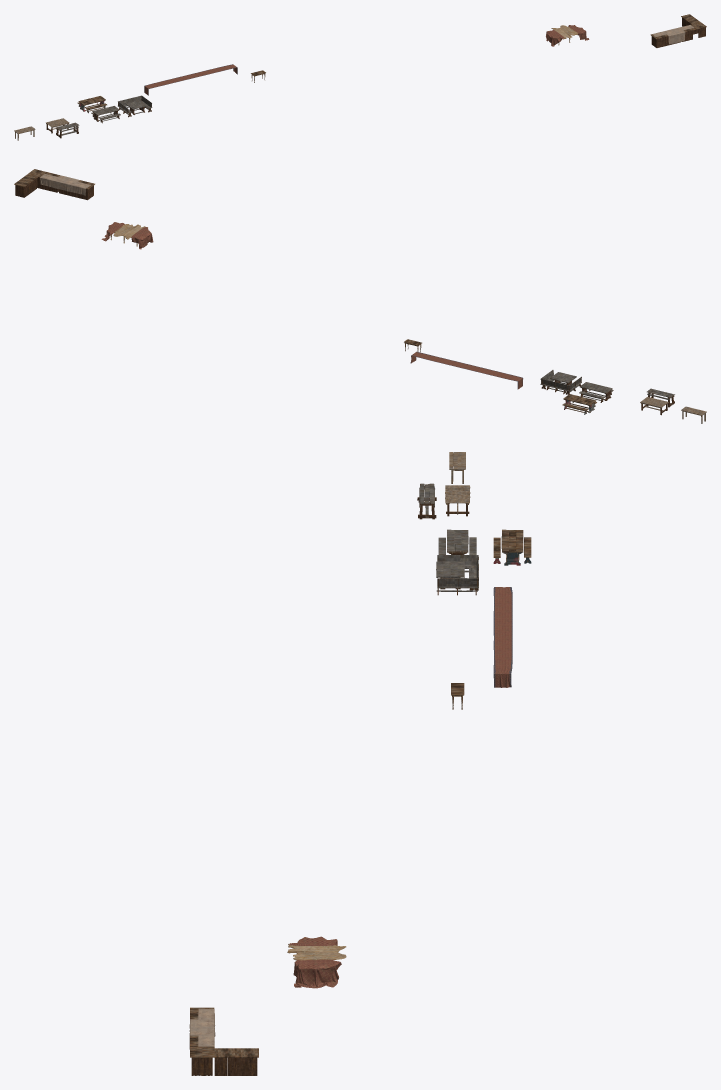
Rendered from enc_int_heya.glb.
3 views of the same model, one above another, from view 1: azimuth 30°, elevation 25°; view 2: azimuth 150°, elevation 25°; view 3: azimuth 270°, elevation 25° (orthographic). The views are drawn at different scales.
Parts seen in each view (by area): view 1: KB3D_ECI_PropTable_J_Main, KB3D_ECI_PropTable_G_Main, KB3D_ECI_PropTableFabric_A_Main, KB3D_ECI_PropTable_E_Main, KB3D_ECI_PropTable_D_Main, KB3D_ECI_PropTable_I_Main; view 2: KB3D_ECI_PropTable_J_Main, KB3D_ECI_PropTable_G_Main, KB3D_ECI_PropTableFabric_A_Main, KB3D_ECI_PropTable_E_Main, KB3D_ECI_PropTable_D_Main, KB3D_ECI_PropTable_I_Main; view 3: KB3D_ECI_PropTable_J_Main, KB3D_ECI_PropTable_G_Main, KB3D_ECI_PropTableFabric_A_Main, KB3D_ECI_PropTable_E_Main, KB3D_ECI_PropTable_I_Main.
Part boxes in pixels (bbox=[...]): KB3D_ECI_PropTable_J_Main: bbox=[650, 14, 706, 47]; KB3D_ECI_PropTable_G_Main: bbox=[546, 25, 589, 46]; KB3D_ECI_PropTableFabric_A_Main: bbox=[144, 64, 237, 95]; KB3D_ECI_PropTable_E_Main: bbox=[118, 95, 152, 117]; KB3D_ECI_PropTable_D_Main: bbox=[91, 106, 120, 123]; KB3D_ECI_PropTable_I_Main: bbox=[77, 96, 106, 113]; KB3D_ECI_PropTable_J_Main: bbox=[14, 169, 94, 200]; KB3D_ECI_PropTable_G_Main: bbox=[101, 222, 153, 249]; KB3D_ECI_PropTableFabric_A_Main: bbox=[410, 351, 523, 389]; KB3D_ECI_PropTable_E_Main: bbox=[540, 370, 581, 394]; KB3D_ECI_PropTable_D_Main: bbox=[579, 382, 613, 402]; KB3D_ECI_PropTable_I_Main: bbox=[562, 394, 596, 414]; KB3D_ECI_PropTable_J_Main: bbox=[189, 1007, 258, 1075]; KB3D_ECI_PropTable_G_Main: bbox=[287, 936, 346, 988]; KB3D_ECI_PropTableFabric_A_Main: bbox=[493, 587, 512, 687]; KB3D_ECI_PropTable_E_Main: bbox=[436, 555, 478, 595]; KB3D_ECI_PropTable_I_Main: bbox=[493, 529, 531, 565].
Size of the model in its own units: 70.28 by 1.08 by 16.66.
11 materials, 11 textured.
